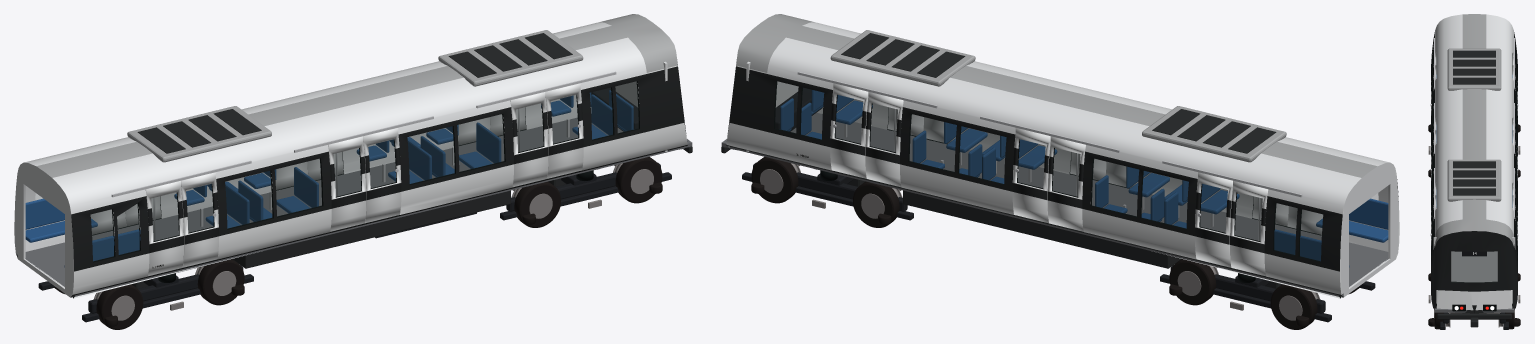
Rendered from mp14_ca_cab.glb.
3 views of the same model, side by side, from view 1: azimuth 30°, elevation 25°; view 2: azimuth 150°, elevation 25°; view 3: azimuth 270°, elevation 25° (orthographic). The views are drawn at different scales.
Visible parts, largest first — view 1: METRO_MP14_8voit_V1_Caisse, METRO_MP14_8voit_V1_BaieG1, METRO_MP14_8voit_V1_PorteD1_AV.002, METRO_MP14_8voit_V1_PorteD2_AV.002, METRO_MP14_8voit_V1_PorteD3_AV.002, METRO_MP14_8voit_V1_PorteD2_AR.002, METRO_MP14_8voit_V1_PorteD1_AR.002, METRO_MP14_8voit_V1_PorteD3_AR.002, METRO_MP14_8voit_V1_PorteD3_AR_Vitre, METRO_MP14_8voit_V1_PorteD3_AV_Vitre, METRO_MP14_8voit_V1_PorteD2_AR_Vitre, METRO_MP14_8voit_V1_PorteD2_AV_Vitre (+5 smaller); view 2: METRO_MP14_8voit_V1_Caisse, METRO_MP14_8voit_V1_BaieG1, METRO_MP14_8voit_V1_PorteG1_AV.002, METRO_MP14_8voit_V1_PorteG2_AV.002, METRO_MP14_8voit_V1_PorteG3_AV.002, METRO_MP14_8voit_V1_PorteG2_AR.002, METRO_MP14_8voit_V1_PorteG1_AR.002, METRO_MP14_8voit_V1_PorteG3_AR.002, METRO_MP14_8voit_V1_PorteG3_AR_Vitre, METRO_MP14_8voit_V1_PorteG3_AV_Vitre, METRO_MP14_8voit_V1_PorteG2_AR_Vitre, METRO_MP14_8voit_V1_PorteG2_AV_Vitre (+3 smaller); view 3: METRO_MP14_8voit_V1_Caisse, METRO_MP14_8voit_V1_BaieG1, METRO_MP14_8voit_V1_PorteG3_AR.002, METRO_MP14_8voit_V1_PorteD3_AR.002, METRO_MP14_8voit_V1_PorteG2_AR.002, METRO_MP14_8voit_V1_PorteD2_AR.002, METRO_MP14_8voit_V1_PorteG1_AV.002, METRO_MP14_8voit_V1_PorteG2_AV.002, METRO_MP14_8voit_V1_PorteG3_AV.002, METRO_MP14_8voit_V1_PorteD1_AV.002, METRO_MP14_8voit_V1_PorteD2_AV.002, METRO_MP14_8voit_V1_PorteD3_AV.002 (+2 smaller).
Boxes of the visible parts, left/top/right/bottom form: METRO_MP14_8voit_V1_Caisse: left=14, top=14, right=692, bottom=329; METRO_MP14_8voit_V1_BaieG1: left=35, top=81, right=638, bottom=261; METRO_MP14_8voit_V1_PorteD1_AV.002: left=545, top=83, right=583, bottom=178; METRO_MP14_8voit_V1_PorteD2_AV.002: left=363, top=128, right=401, bottom=223; METRO_MP14_8voit_V1_PorteD3_AV.002: left=181, top=172, right=218, bottom=267; METRO_MP14_8voit_V1_PorteD2_AR.002: left=328, top=136, right=366, bottom=231; METRO_MP14_8voit_V1_PorteD1_AR.002: left=510, top=92, right=548, bottom=187; METRO_MP14_8voit_V1_PorteD3_AR.002: left=145, top=180, right=183, bottom=276; METRO_MP14_8voit_V1_PorteD3_AR_Vitre: left=151, top=193, right=178, bottom=240; METRO_MP14_8voit_V1_PorteD3_AV_Vitre: left=186, top=184, right=213, bottom=232; METRO_MP14_8voit_V1_PorteD2_AR_Vitre: left=333, top=148, right=360, bottom=196; METRO_MP14_8voit_V1_PorteD2_AV_Vitre: left=368, top=140, right=395, bottom=187; METRO_MP14_8voit_V1_Caisse: left=721, top=14, right=1399, bottom=329; METRO_MP14_8voit_V1_BaieG1: left=775, top=81, right=1378, bottom=261; METRO_MP14_8voit_V1_PorteG1_AV.002: left=830, top=83, right=868, bottom=178; METRO_MP14_8voit_V1_PorteG2_AV.002: left=1012, top=128, right=1050, bottom=223; METRO_MP14_8voit_V1_PorteG3_AV.002: left=1195, top=172, right=1232, bottom=267; METRO_MP14_8voit_V1_PorteG2_AR.002: left=1047, top=136, right=1085, bottom=231; METRO_MP14_8voit_V1_PorteG1_AR.002: left=865, top=92, right=903, bottom=187; METRO_MP14_8voit_V1_PorteG3_AR.002: left=1230, top=180, right=1268, bottom=276; METRO_MP14_8voit_V1_PorteG3_AR_Vitre: left=1235, top=193, right=1262, bottom=240; METRO_MP14_8voit_V1_PorteG3_AV_Vitre: left=1200, top=184, right=1227, bottom=232; METRO_MP14_8voit_V1_PorteG2_AR_Vitre: left=1053, top=148, right=1080, bottom=196; METRO_MP14_8voit_V1_PorteG2_AV_Vitre: left=1018, top=140, right=1045, bottom=187; METRO_MP14_8voit_V1_Caisse: left=1428, top=14, right=1520, bottom=329; METRO_MP14_8voit_V1_BaieG1: left=1432, top=102, right=1516, bottom=282; METRO_MP14_8voit_V1_PorteG3_AR.002: left=1512, top=52, right=1517, bottom=125; METRO_MP14_8voit_V1_PorteD3_AR.002: left=1431, top=52, right=1436, bottom=125; METRO_MP14_8voit_V1_PorteG2_AR.002: left=1512, top=117, right=1517, bottom=190; METRO_MP14_8voit_V1_PorteD2_AR.002: left=1431, top=117, right=1436, bottom=190; METRO_MP14_8voit_V1_PorteG1_AV.002: left=1512, top=195, right=1517, bottom=245; METRO_MP14_8voit_V1_PorteG2_AV.002: left=1512, top=130, right=1517, bottom=180; METRO_MP14_8voit_V1_PorteG3_AV.002: left=1512, top=65, right=1517, bottom=115; METRO_MP14_8voit_V1_PorteD1_AV.002: left=1431, top=195, right=1436, bottom=245; METRO_MP14_8voit_V1_PorteD2_AV.002: left=1431, top=130, right=1436, bottom=180; METRO_MP14_8voit_V1_PorteD3_AV.002: left=1431, top=65, right=1436, bottom=115.
Bounding box in the file's own units: 15.04 × 3.48 × 2.59.
9 materials, 9 textured.
